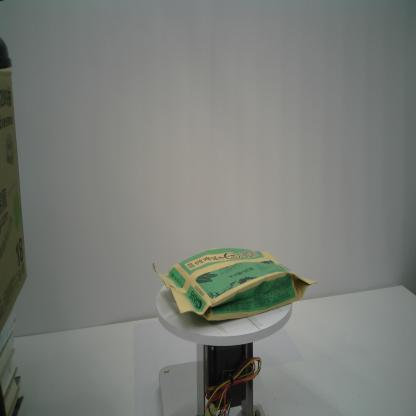Dried Food: (148, 245, 318, 326)
